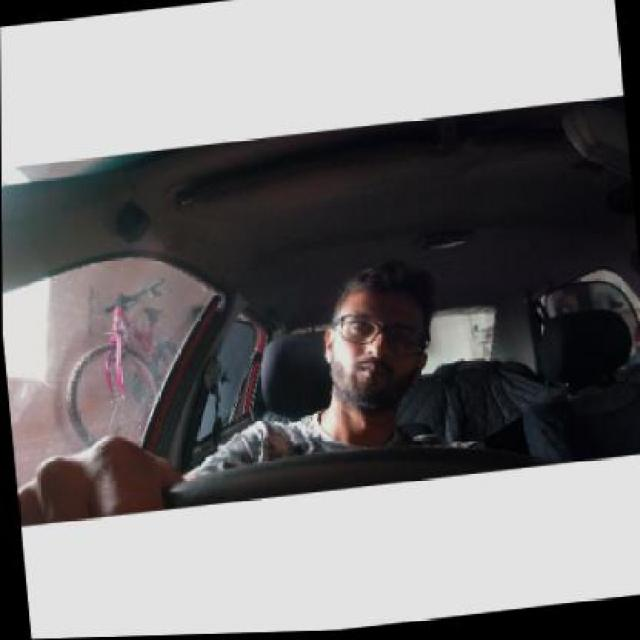drowsy: (273, 242, 441, 468)
